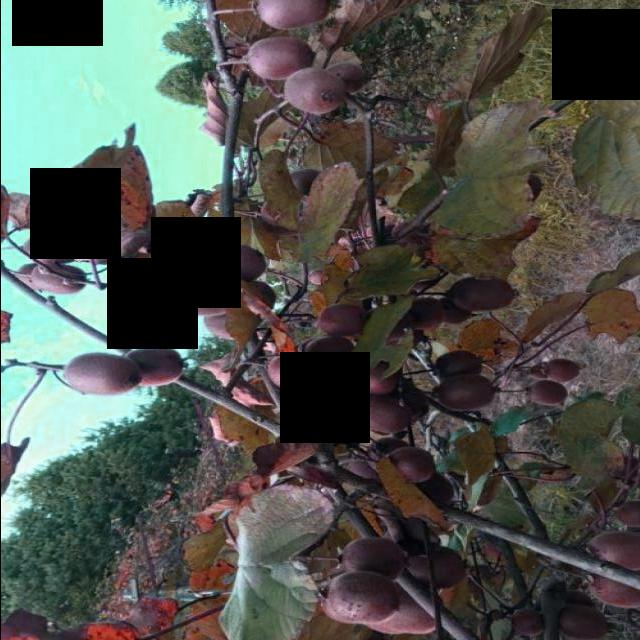kiwi: (63, 350, 141, 401), (323, 574, 397, 627), (278, 67, 352, 118), (396, 541, 471, 590), (170, 274, 248, 320), (343, 393, 420, 438), (262, 351, 334, 399), (335, 539, 413, 583), (247, 37, 316, 83), (206, 243, 270, 289), (445, 274, 518, 314), (121, 345, 183, 389), (431, 376, 498, 416), (375, 447, 435, 489), (582, 531, 640, 573), (253, 2, 334, 32), (385, 297, 452, 333), (18, 231, 84, 266), (24, 263, 87, 298), (548, 605, 611, 640), (316, 303, 371, 340), (527, 379, 569, 409), (541, 358, 582, 384), (608, 501, 640, 531)
